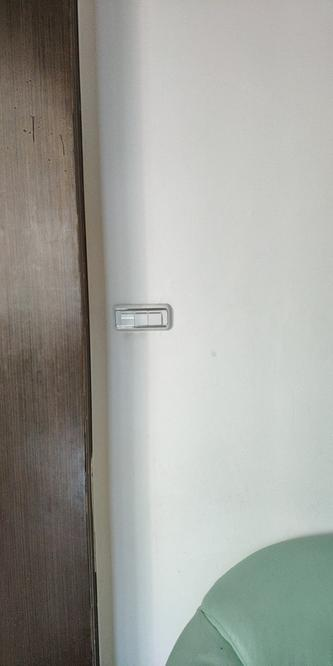switch: (135, 312, 148, 326), (147, 313, 163, 324), (119, 314, 131, 326)
